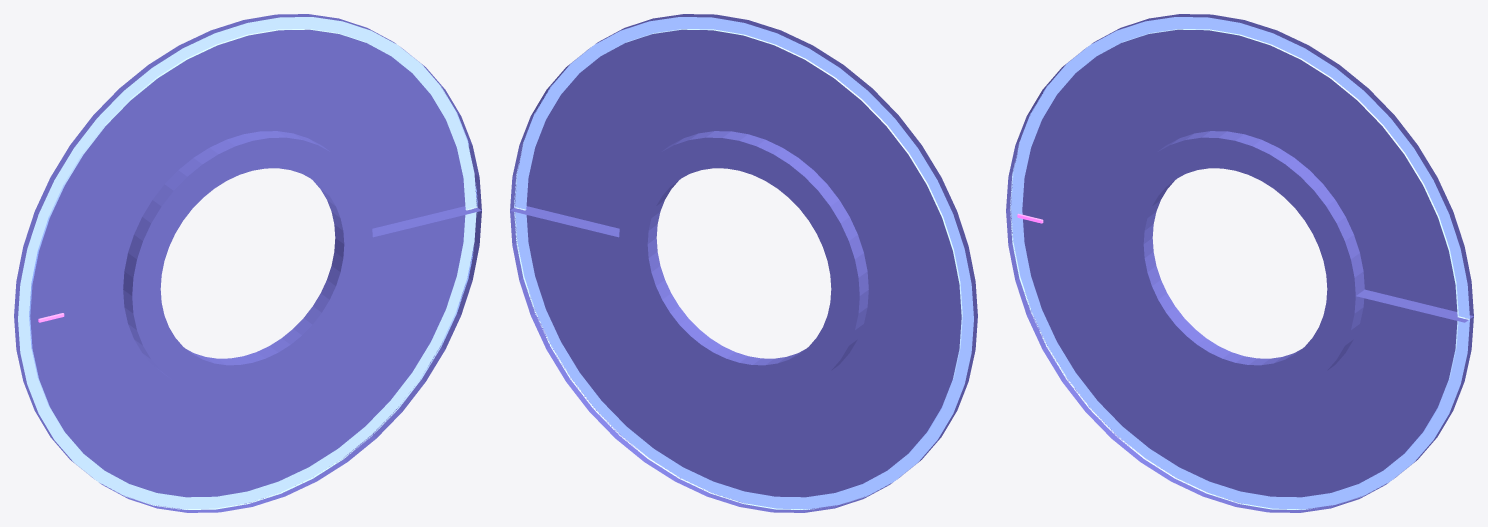
File: prism-panel-fun8-medium.glb
3 views of the same model, side by side, from view 1: azimuth 30°, elevation 25°; view 2: azimuth 150°, elevation 25°; view 3: azimuth 330°, elevation 25° (orthographic).
Visible parts, largest first — view 1: RENDER_PANEL_SHELL, RENDER_PANEL_FRAME; view 2: RENDER_PANEL_SHELL, RENDER_PANEL_FRAME; view 3: RENDER_PANEL_SHELL, RENDER_PANEL_FRAME.
Part boxes in pixels (<box>): RENDER_PANEL_SHELL: <box>14,14,481,512</box>; RENDER_PANEL_FRAME: <box>18,17,477,509</box>; RENDER_PANEL_SHELL: <box>510,14,977,512</box>; RENDER_PANEL_FRAME: <box>514,17,973,509</box>; RENDER_PANEL_SHELL: <box>1006,14,1473,512</box>; RENDER_PANEL_FRAME: <box>1010,17,1469,509</box>.
Size of what is drawn, in the model's own units: 41 by 41 by 1.81.
